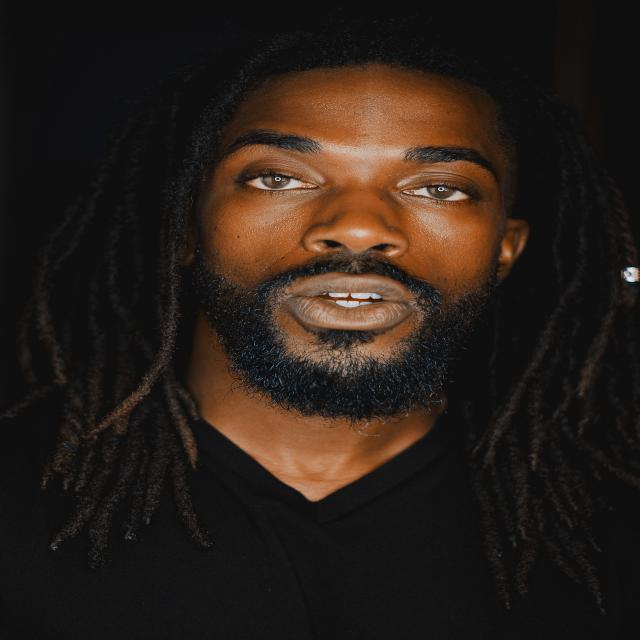adult: (0, 21, 625, 639)
